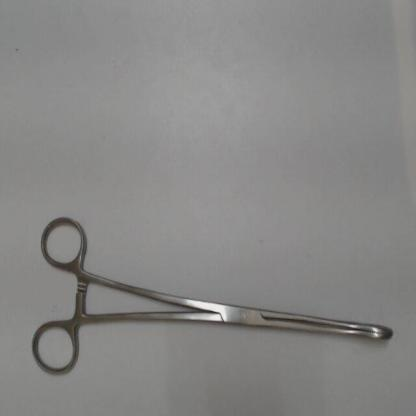Sponge Forceps: (26, 207, 402, 384)
